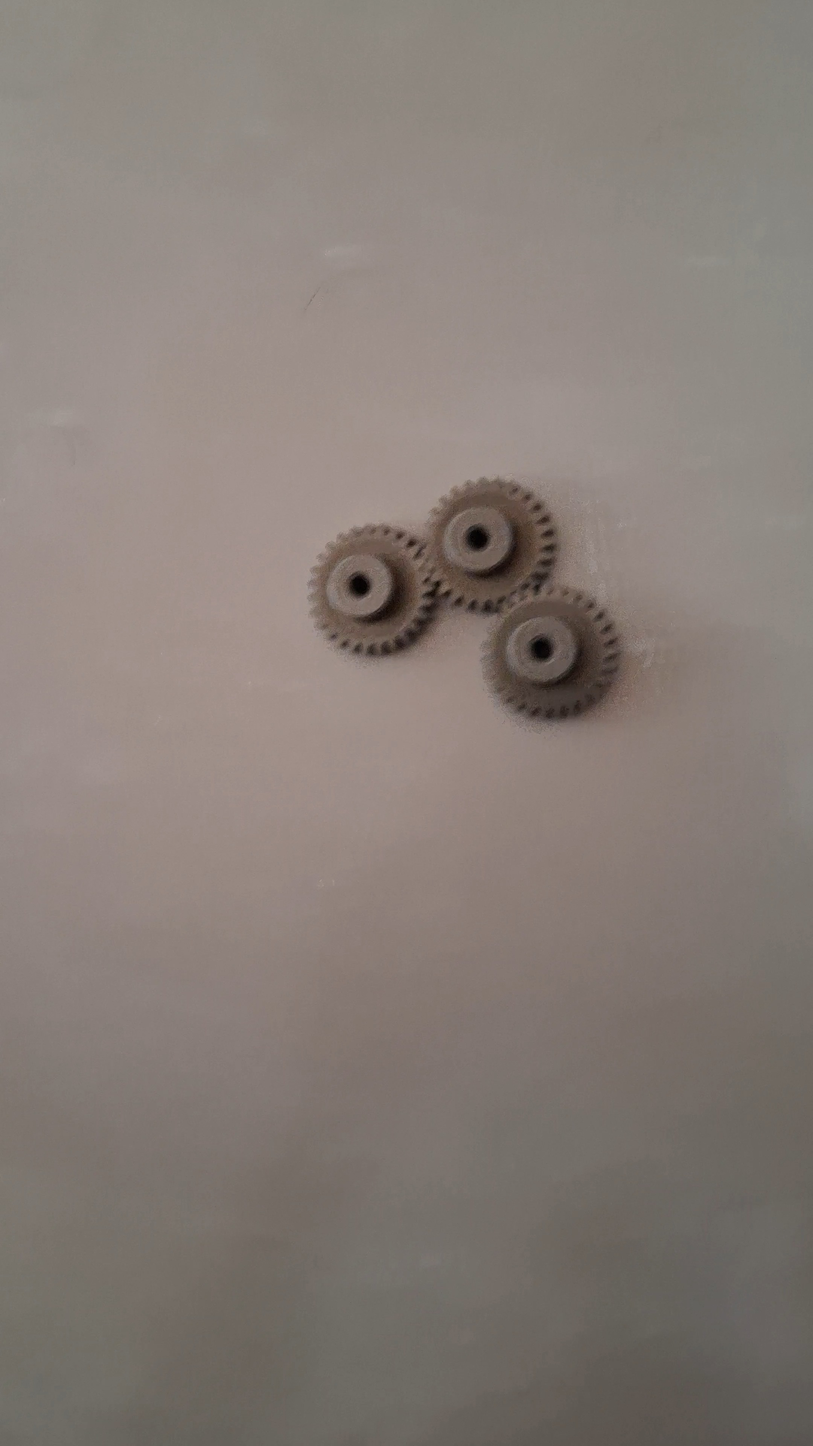spur gear: (484, 586, 620, 718), (428, 479, 556, 612), (309, 525, 436, 655)
